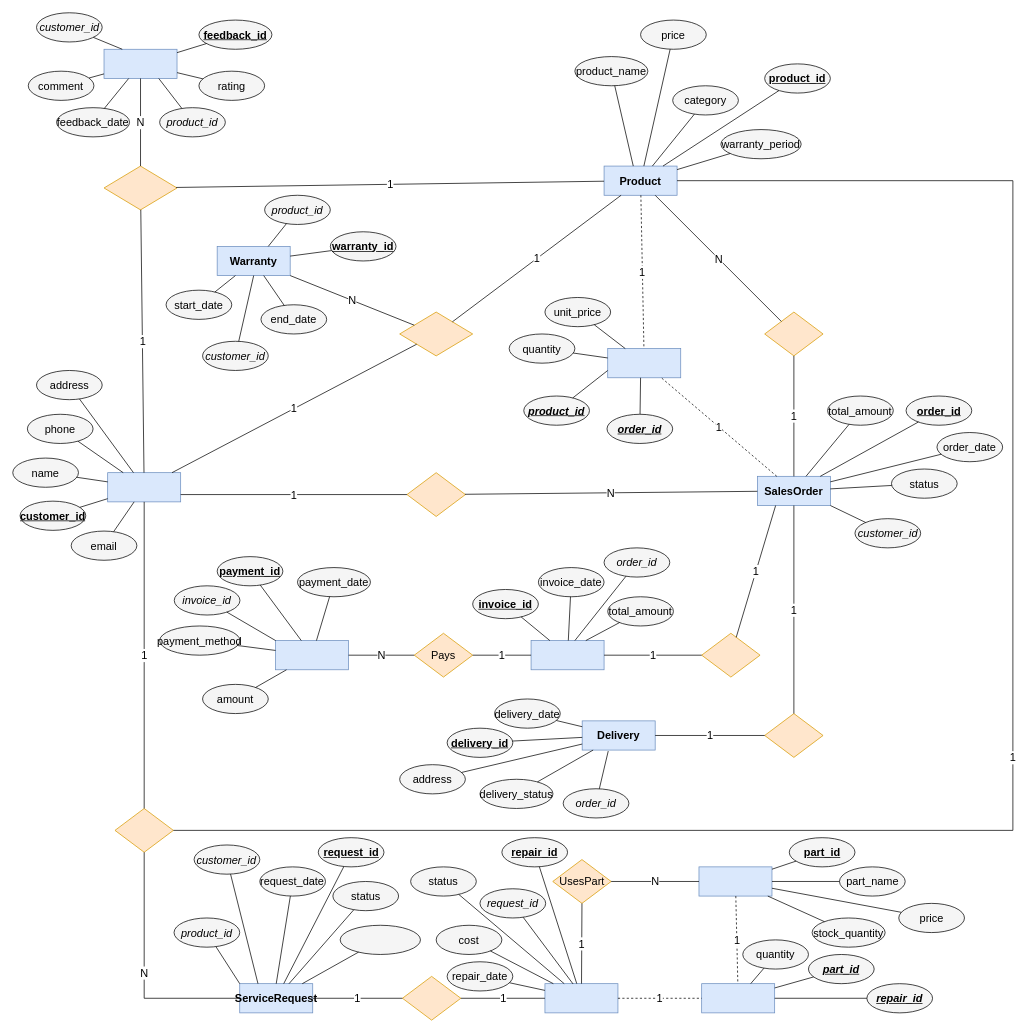
The diagram is 1029 pixels wide and 1033 high, and some of its shapes have lost their labels. Each missing label, with the centre of its shape:
"Contains" goes at [793,333].
"Customer" goes at [144,487].
"Feedback" goes at [140,63].
"Generates" goes at [730,655].
"GivesFeedback" goes at [140,187].
"Handles" goes at [431,998].
"HasWarranty" goes at [436,333].
"Invoice" goes at [567,655].
"issue_description" goes at [379,939].
"OrderItem" goes at [644,363].
"Payment" goes at [312,655].
"Places" goes at [435,494].
"Repair" goes at [581,998].
"RepairDetail" goes at [738,998].
"Requests" goes at [143,830].
"Ships" goes at [793,735].
"SparePart" goes at [735,881].
